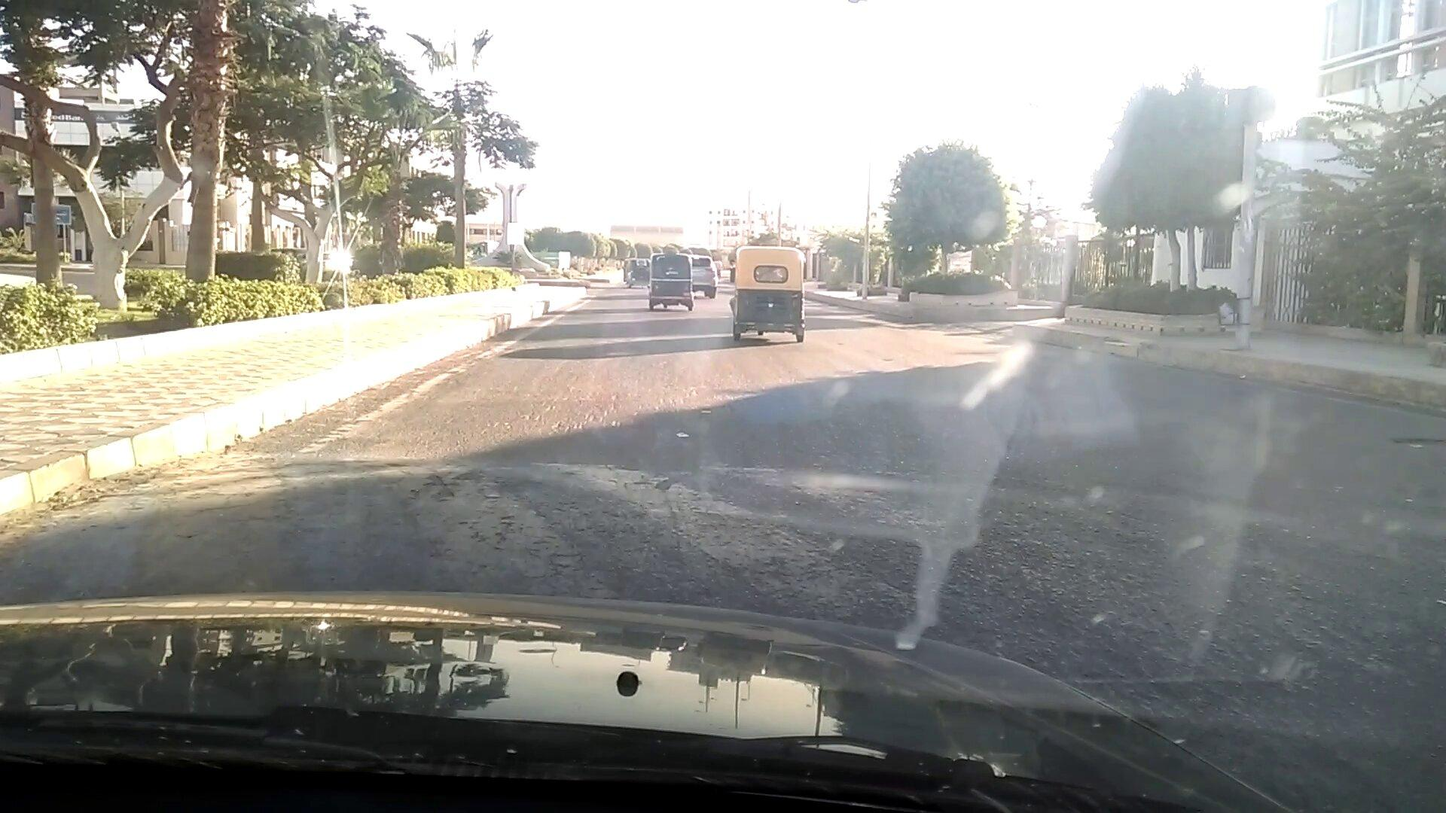Bump: (0, 446, 1445, 719)
